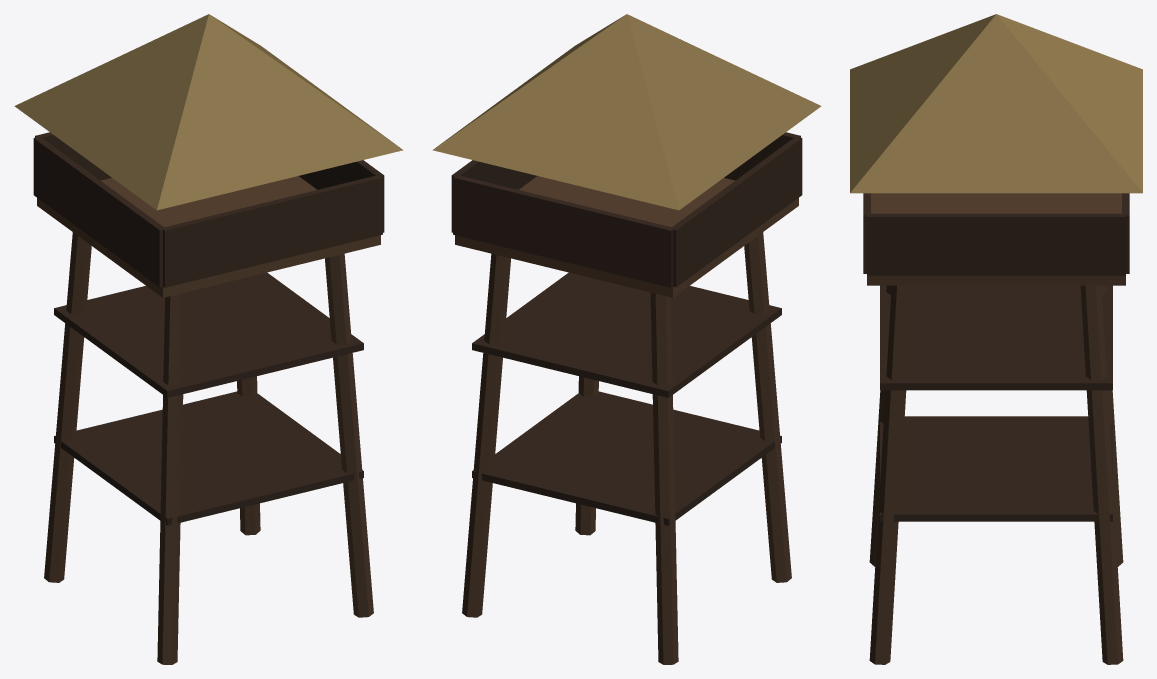
Rendered from walk_rime_tower.glb.
3 views of the same model, side by side, from view 1: azimuth 30°, elevation 25°; view 2: azimuth 150°, elevation 25°; view 3: azimuth 270°, elevation 25° (orthographic). The views are drawn at different scales.
Visible parts, largest first — view 1: walk_rime_tower, walk_rime_tower_roof; view 2: walk_rime_tower, walk_rime_tower_roof; view 3: walk_rime_tower, walk_rime_tower_roof.
Boxes of the visible parts, x1,y1,x2,y2 form: walk_rime_tower: (33, 132, 384, 664); walk_rime_tower_roof: (14, 14, 403, 210); walk_rime_tower: (451, 132, 802, 664); walk_rime_tower_roof: (432, 14, 821, 210); walk_rime_tower: (863, 193, 1129, 664); walk_rime_tower_roof: (850, 14, 1142, 193).
Size of what is drawn, in the model's own units: 4.53 by 10.21 by 4.53.
1 material, 1 textured.
